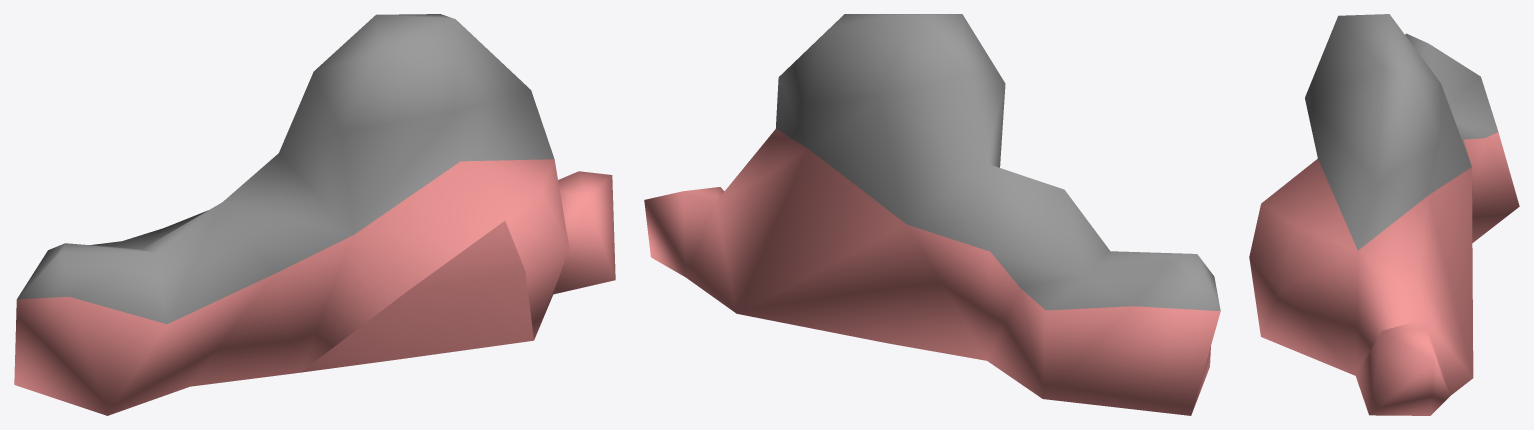
File: deco_oren_stone008.gltf
3 views of the same model, side by side, from view 1: azimuth 30°, elevation 25°; view 2: azimuth 150°, elevation 25°; view 3: azimuth 270°, elevation 25° (orthographic). The views are drawn at different scales.
Visible parts, largest first — view 1: deco_oren_stone008; view 2: deco_oren_stone008; view 3: deco_oren_stone008.
Part boxes in pixels (x1,y1,x2,y2): deco_oren_stone008: (14,14,615,415); deco_oren_stone008: (644,14,1220,415); deco_oren_stone008: (1249,14,1519,415).
Bounding box in the file's own units: 1.38 × 0.7172 × 0.5702.
